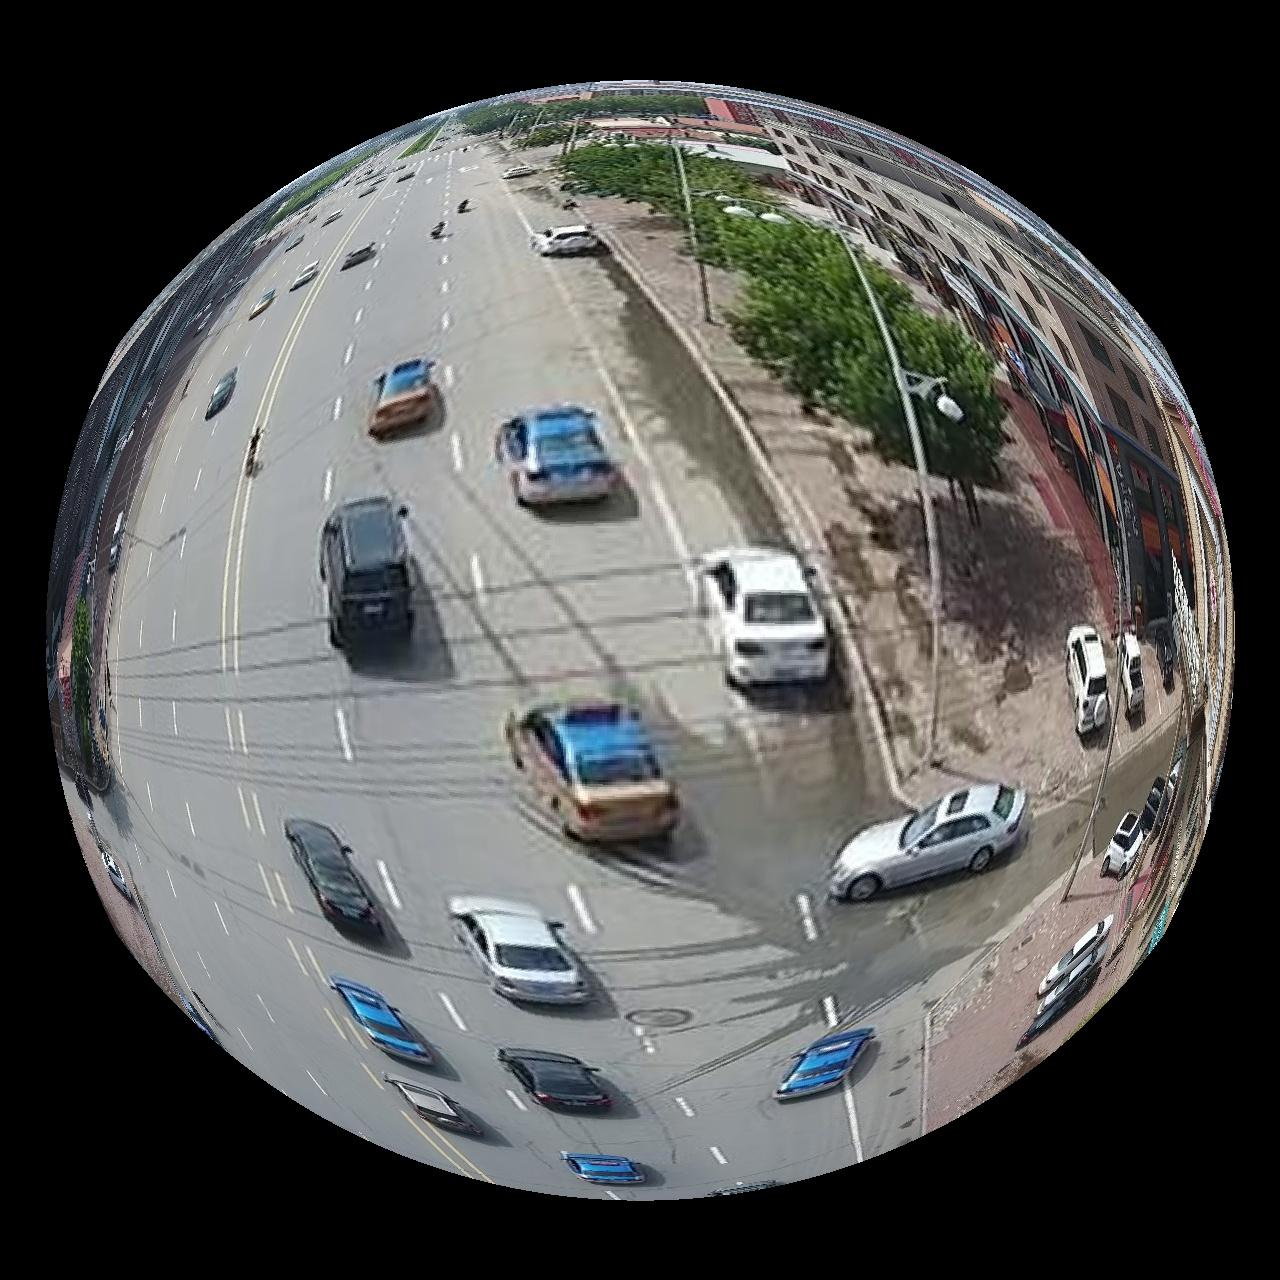cars: (506, 702, 680, 842), (830, 783, 1029, 901), (692, 547, 832, 688), (284, 819, 408, 959), (449, 898, 590, 1006), (319, 497, 413, 647), (496, 404, 621, 505), (329, 978, 436, 1067), (775, 1029, 876, 1102), (498, 1050, 614, 1110), (366, 356, 444, 441), (384, 1077, 483, 1138), (1069, 625, 1110, 738), (561, 1156, 647, 1189), (531, 224, 602, 256), (1123, 632, 1148, 722)
trees: (529, 113, 1008, 524)
